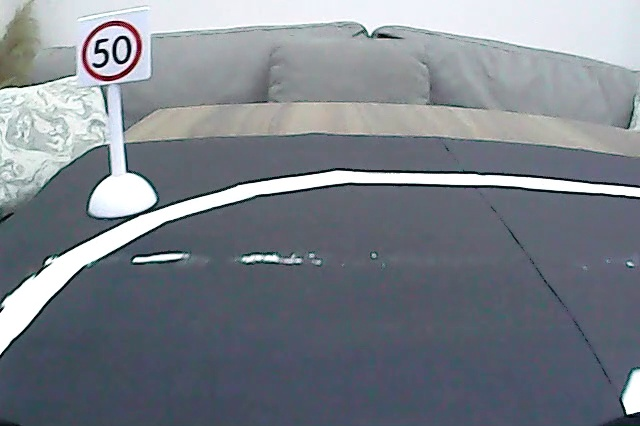speed limit 50: (81, 18, 146, 85)
